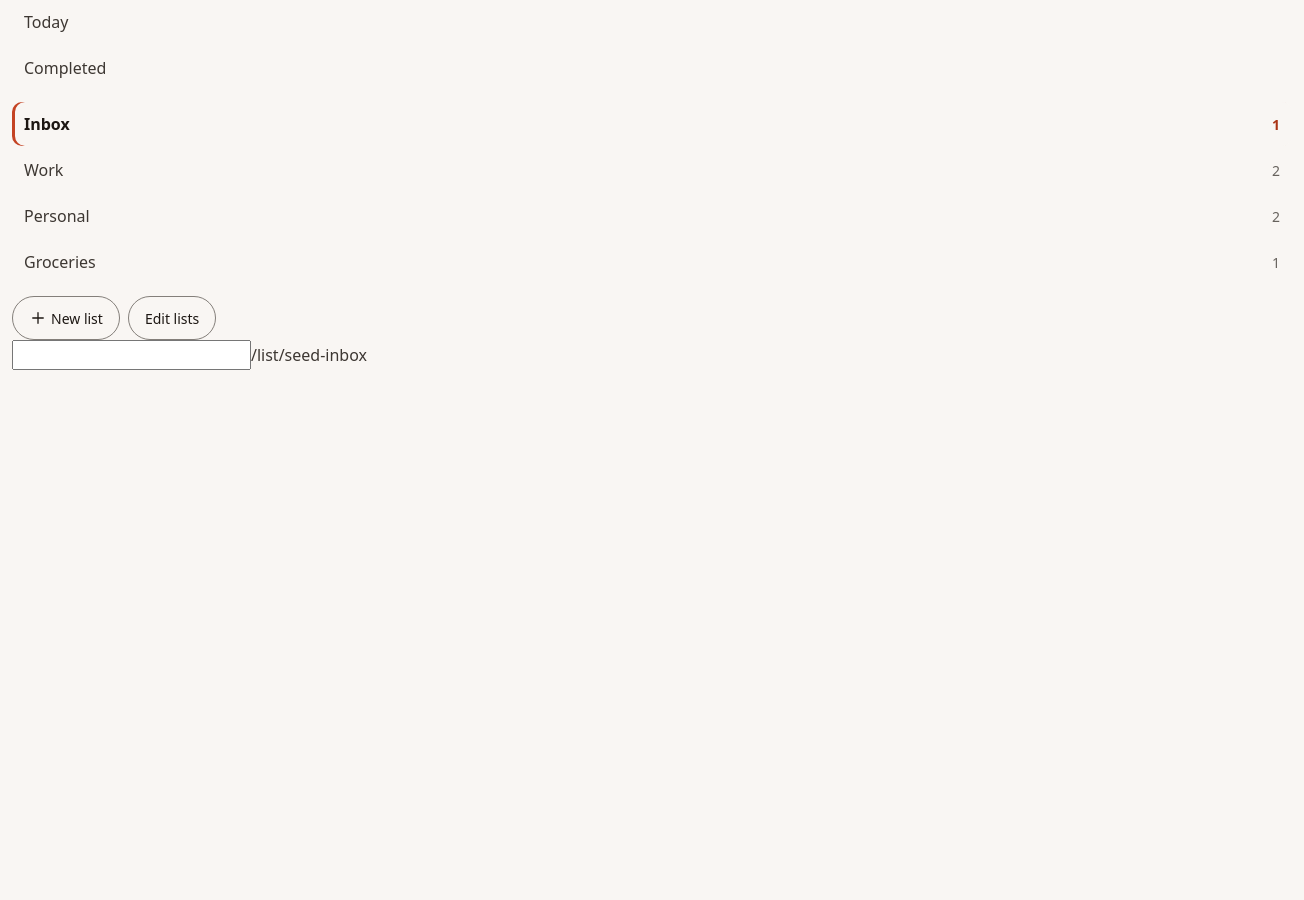
Scenario: ListNav › editing › rolls back a failed rename and offers a retry
Expected: the link "Work 2" is shown, x1=24 y1=159 x2=1280 y2=181
Click the button "Edit lists". click: (172, 318)
box: x1=128 y1=296 x2=216 y2=340
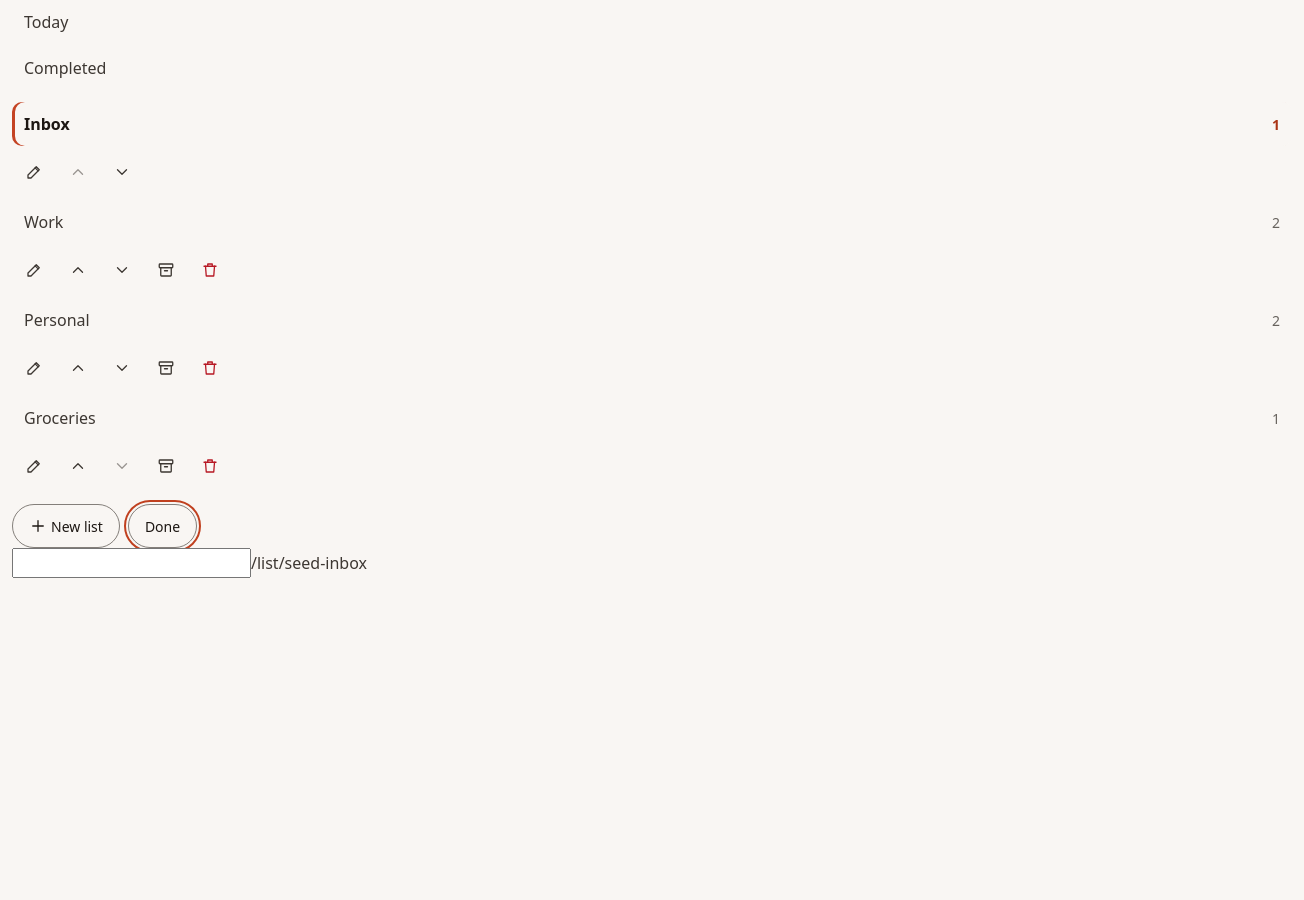
Click the button named "Rename Work". click: (34, 270)
box: x1=12 y1=248 x2=56 y2=292
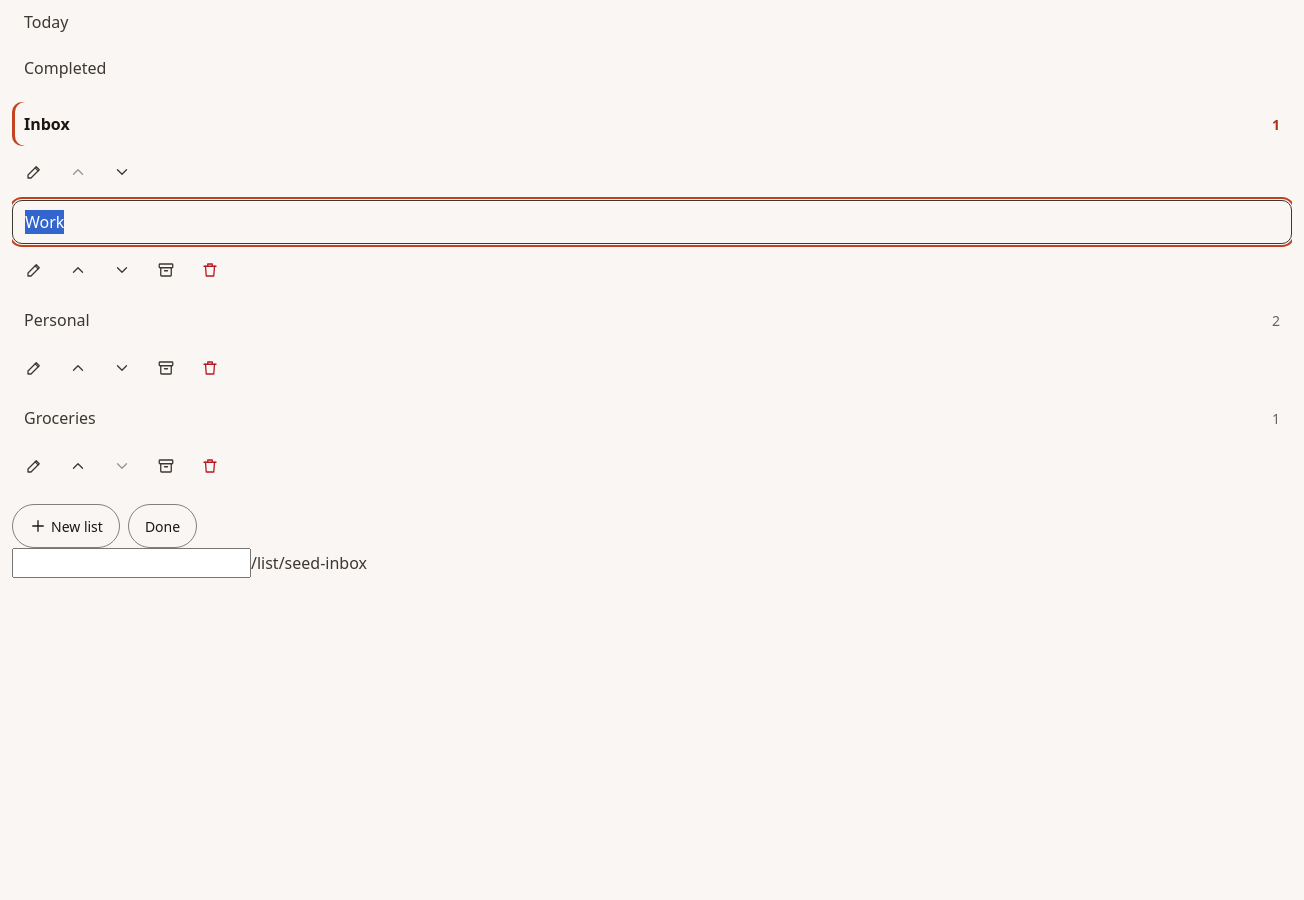
Clear the field named "Rename Work". click: (652, 222)
box: x1=12 y1=200 x2=1292 y2=244
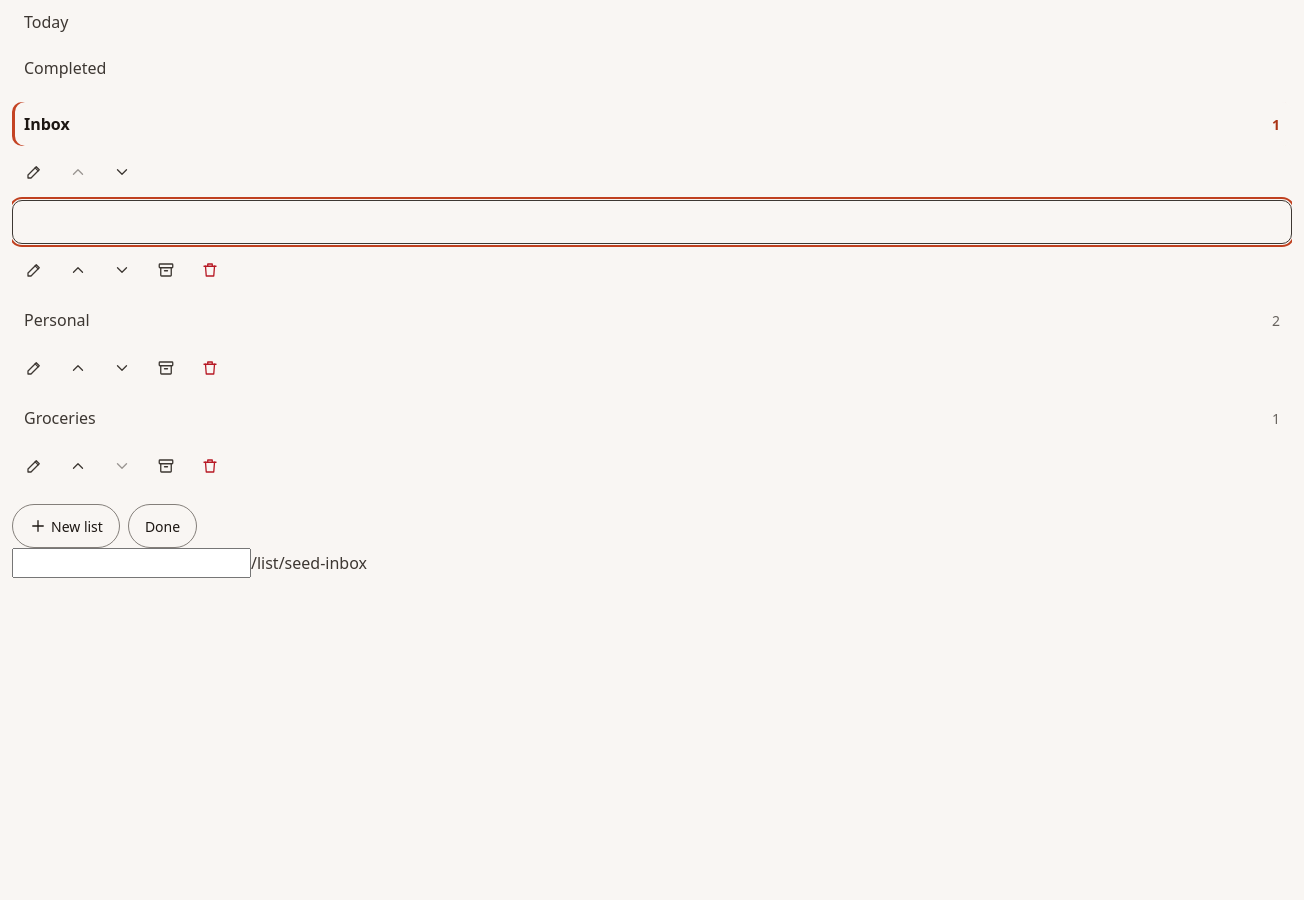
Type keys "Office{Enter}"
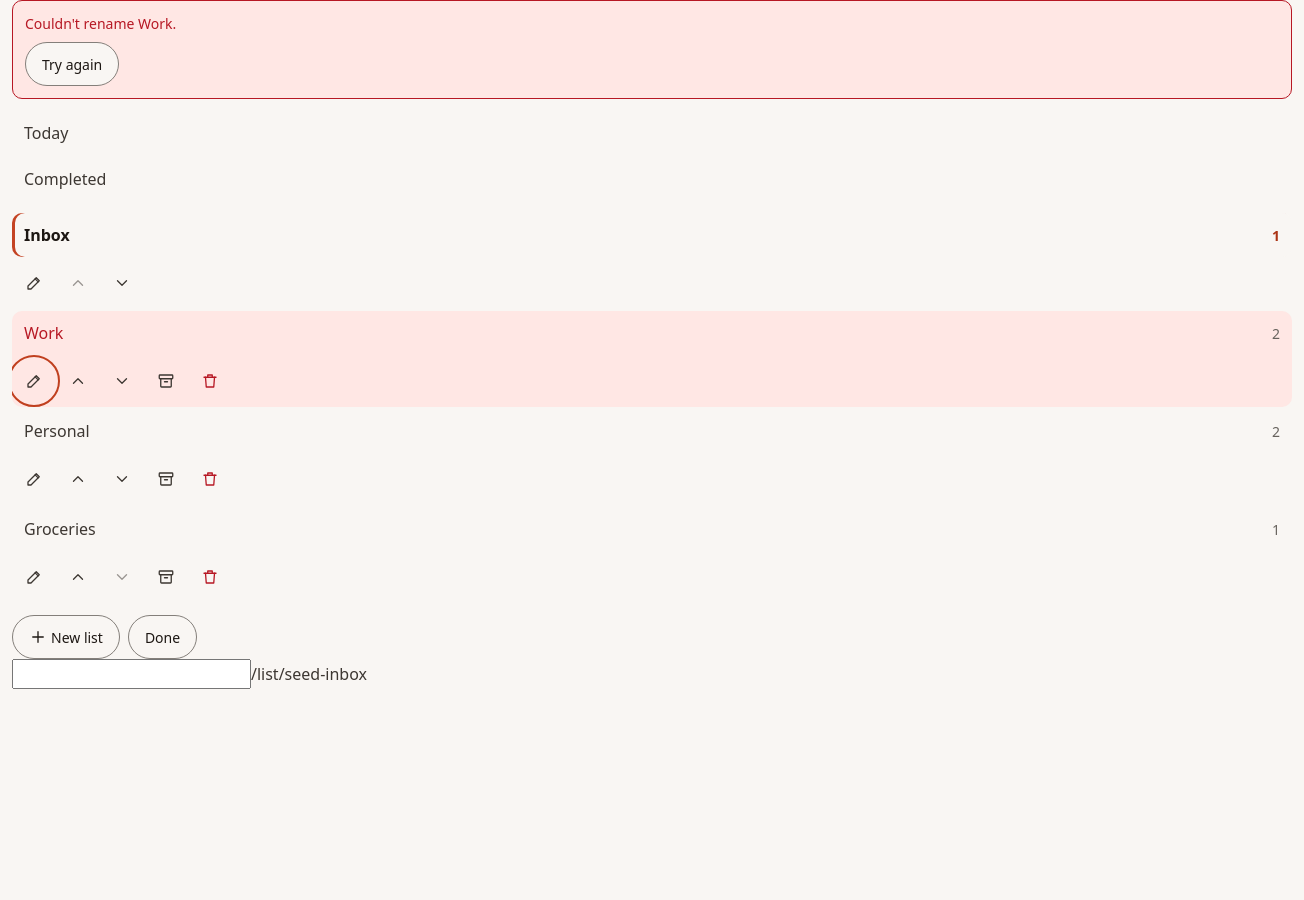
Expected: the message shows "Couldn't rename Work.", x1=25 y1=14 x2=176 y2=33
Expected: the text "Work" is shown, x1=24 y1=322 x2=63 y2=344
Click the button "Try again". click: (72, 64)
box: x1=25 y1=42 x2=119 y2=86
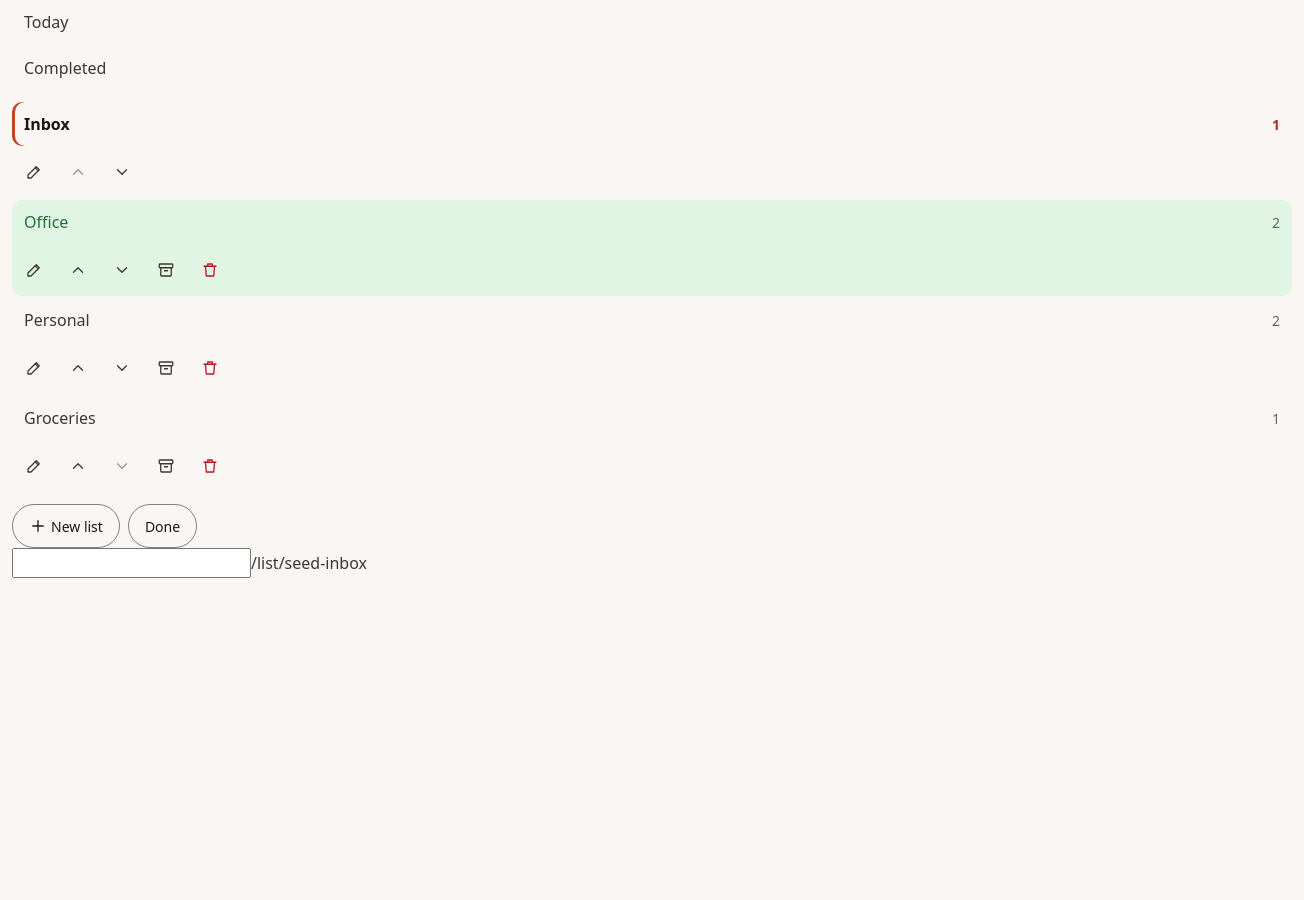
Expected: the text "Office" is shown, x1=24 y1=211 x2=68 y2=233
Expected: the message "Couldn't rename Work. Try again" is gone
